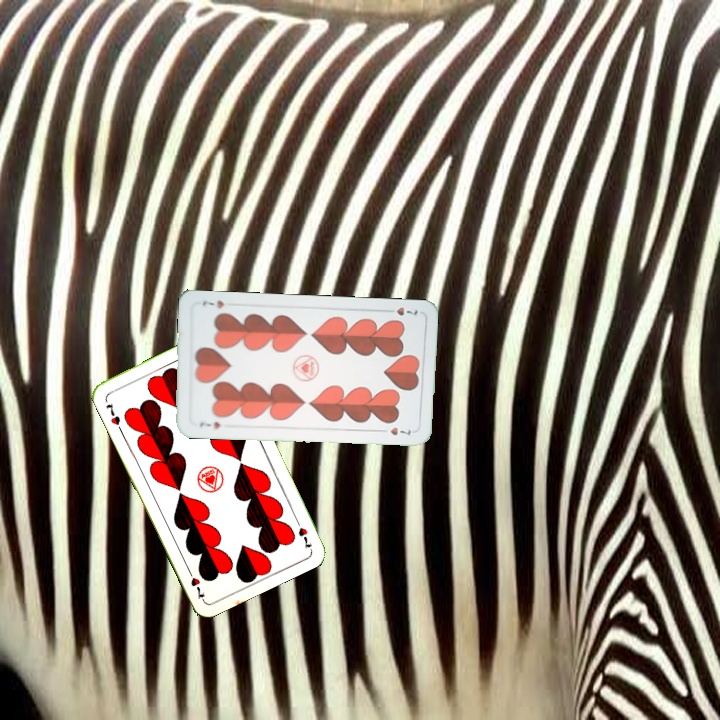H7: (291, 513, 314, 552), (102, 399, 123, 428), (381, 303, 421, 318), (195, 417, 223, 431)
